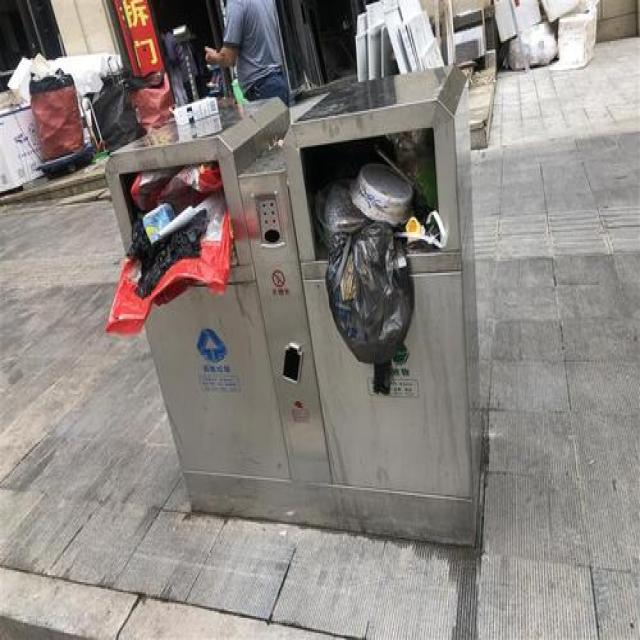overflow: (102, 61, 480, 541)
